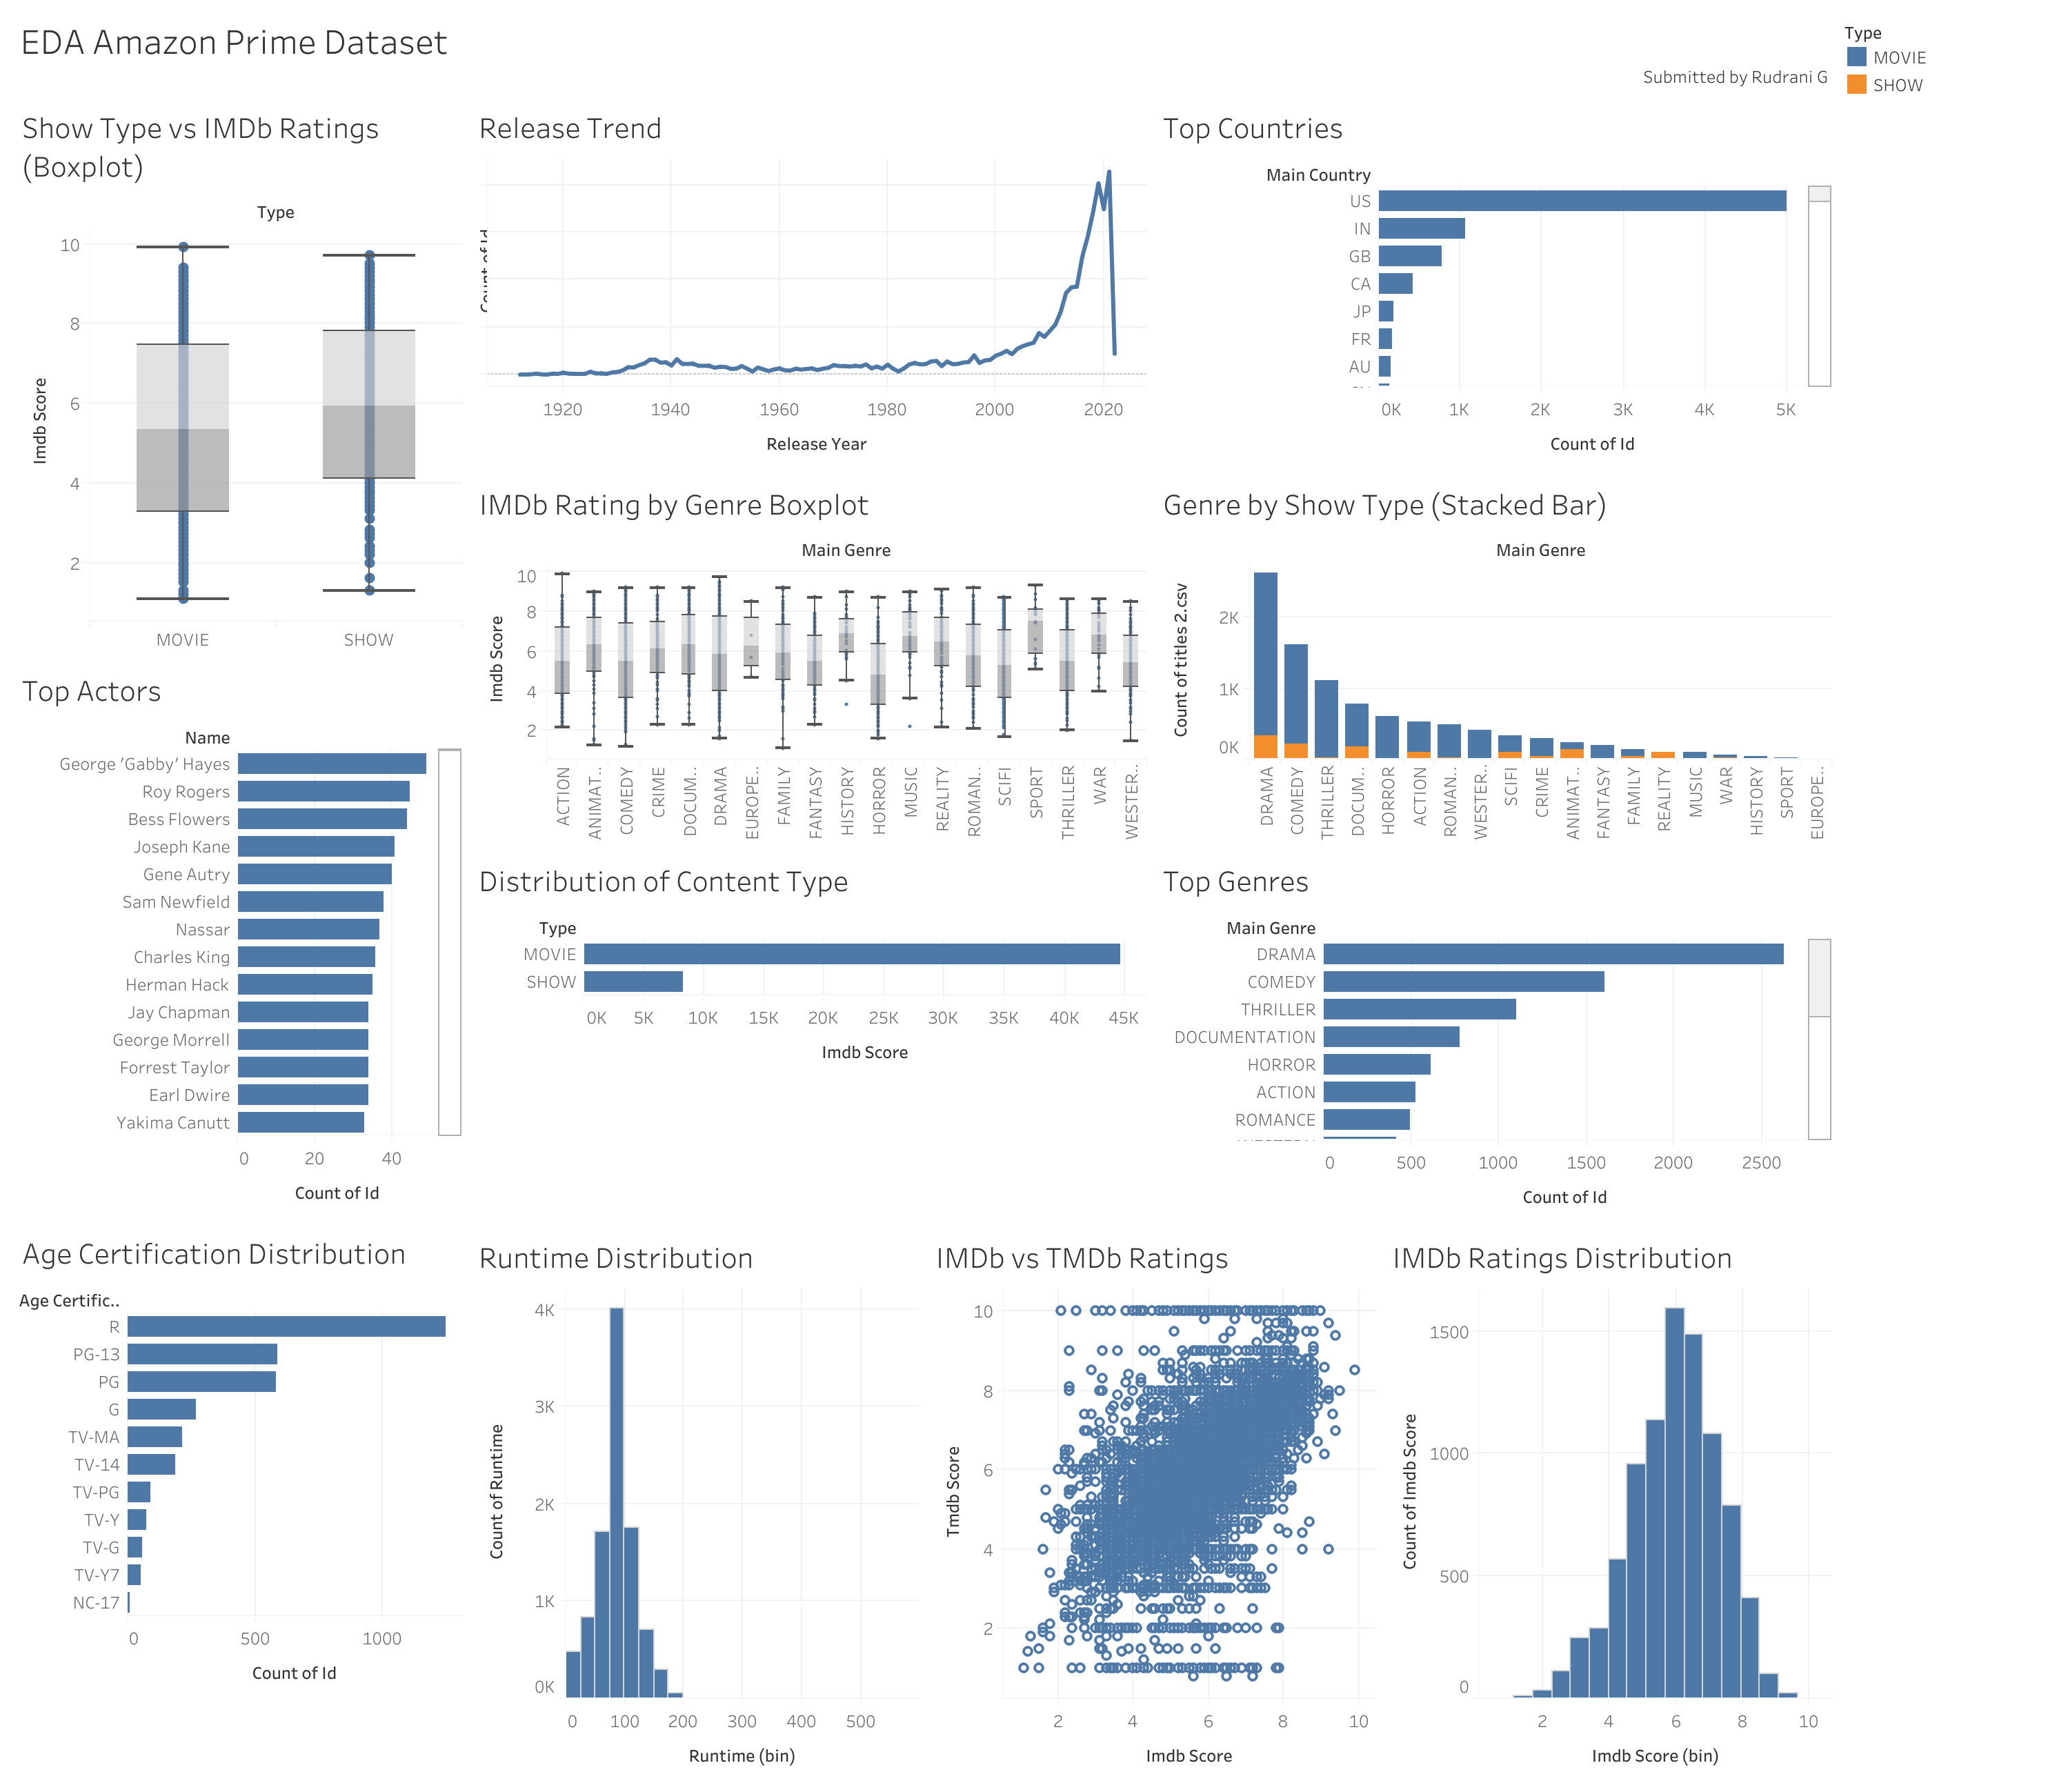

This screenshot's page, from the dashboard's own definition file:
{"tool":"tableau","page":{"name":"Dashboard 1","canvas":[1000,1000],"units":"permille","ordinal":0},"visuals":[{"type":"title","box":[5.3,6.2,882.7,46.1]},{"type":"legend","title":"Genre by Show Type (Stacked Bar)","param":"[federated.1saaoan1quoutm164o1e60lbe1g6].[none:type:nk]","box":[888,6.2,106.7,51.5]},{"type":"worksheet","title":"Show Type vs IMDb Ratings (Boxplot)","mark":"Circle","rows":["imdb_score"],"cols":["type"],"box":[5.3,52.3,220.6,313.8]},{"type":"worksheet","title":"Release Trend","mark":"Automatic","rows":["id"],"cols":["release_year"],"box":[226,52.3,331,210.1]},{"type":"worksheet","title":"Top Production Countries","mark":"Automatic","rows":["Calculation_0014631861690460"],"cols":["id"],"box":[557,52.3,331,210.1]},{"type":"worksheet","title":"IMDb Rating by Genre Boxplot","mark":"Circle","rows":["imdb_score"],"cols":["Calculation_0014631861211227"],"box":[226,262.4,331,210.1]},{"type":"worksheet","title":"Genre by Show Type (Stacked Bar)","mark":"Automatic","rows":["titles 2.csv_DAF6B0B129E24098A9F9E5F91D15DADD"],"cols":["Calculation_0014631861211227"],"box":[557,262.4,331,210.1]},{"type":"worksheet","title":"Top Actors","mark":"Automatic","rows":["name"],"cols":["id"],"box":[5.3,366.1,220.6,313.8]},{"type":"worksheet","title":"Distribution of Content Type","mark":"Automatic","rows":["type"],"cols":["imdb_score"],"box":[226,472.4,331,210.1]},{"type":"worksheet","title":"Top Genres","mark":"Automatic","rows":["Calculation_0014631861211227"],"cols":["id"],"box":[557,472.4,331,210.1]},{"type":"worksheet","title":"Age Certification Distribution","mark":"Automatic","rows":["age_certification"],"cols":["id"],"box":[5.3,680,220.6,313.9]},{"type":"worksheet","title":"Runtime Distribution","mark":"Automatic","rows":["runtime"],"cols":["Runtime (bin)"],"box":[226,682.5,220.7,311.4]},{"type":"worksheet","title":"IMDb vs TMDb Ratings","mark":"Automatic","rows":["tmdb_score"],"cols":["imdb_score"],"box":[446.7,682.5,220.7,311.4]},{"type":"worksheet","title":"IMDb Ratings Distribution","mark":"Automatic","rows":["imdb_score"],"cols":["Imdb Score (bin)"],"box":[667.3,682.5,220.7,311.4]}]}

Visuals, with their boxes on the dashboard's canvas, which has no fixed pixel size, in thousandths of its width and height (x1, y1, x2, y2). These are canvas units, not pixel positions in the 2068x1792 screenshot, which may show the page scaled, cropped or inside an application window:
title: (5, 6, 888, 52)
"Genre by Show Type (Stacked Bar)" legend: (888, 6, 995, 58)
"Show Type vs IMDb Ratings (Boxplot)" worksheet (Circle marks): (5, 52, 226, 366)
"Release Trend" worksheet: (226, 52, 557, 262)
"Top Production Countries" worksheet: (557, 52, 888, 262)
"IMDb Rating by Genre Boxplot" worksheet (Circle marks): (226, 262, 557, 472)
"Genre by Show Type (Stacked Bar)" worksheet: (557, 262, 888, 472)
"Top Actors" worksheet: (5, 366, 226, 680)
"Distribution of Content Type" worksheet: (226, 472, 557, 682)
"Top Genres" worksheet: (557, 472, 888, 682)
"Age Certification Distribution" worksheet: (5, 680, 226, 994)
"Runtime Distribution" worksheet: (226, 682, 447, 994)
"IMDb vs TMDb Ratings" worksheet: (447, 682, 667, 994)
"IMDb Ratings Distribution" worksheet: (667, 682, 888, 994)
